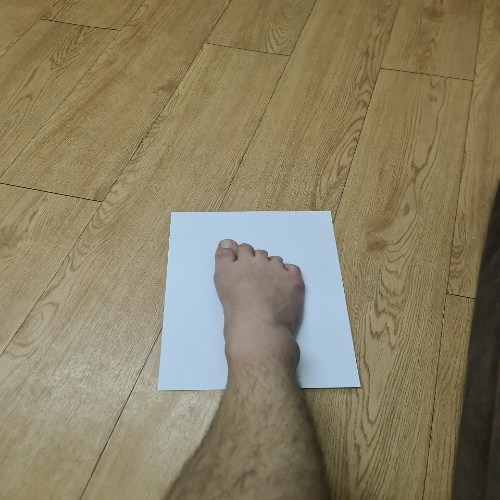Top_Foot: (215, 240, 304, 387)
